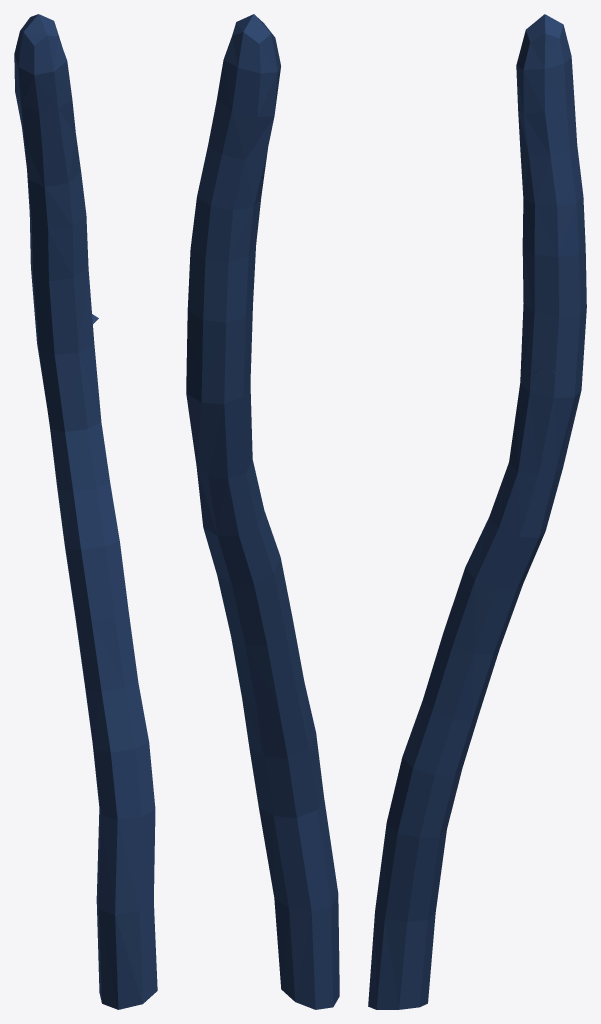
Rendered from Vena Cava Inf.FBX.
The picture shows the model from 3 angles, left to right: view 1: azimuth 30°, elevation 25°; view 2: azimuth 150°, elevation 25°; view 3: azimuth 270°, elevation 25°; orthographic projection. The views are drawn at different scales.
Visible parts, largest first — view 1: CS_Veins; view 2: CS_Veins; view 3: CS_Veins.
Part boxes in pixels (x1=…): CS_Veins: x1=14, y1=14, x2=157, y2=1009; CS_Veins: x1=186, y1=14, x2=339, y2=1009; CS_Veins: x1=368, y1=14, x2=586, y2=1009.
Bounding box in the file's own units: 59.86 × 701 × 141.
